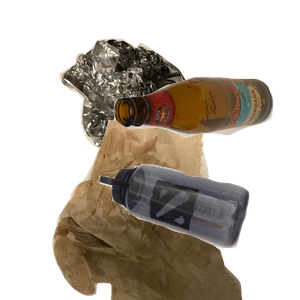glass: (111, 74, 300, 204)
metal: (57, 36, 241, 216)
plastic: (97, 162, 300, 300)
trash: (50, 120, 285, 300)
